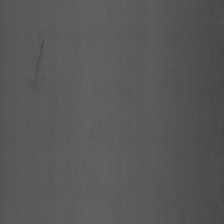water_spot: (28, 31, 54, 94)
